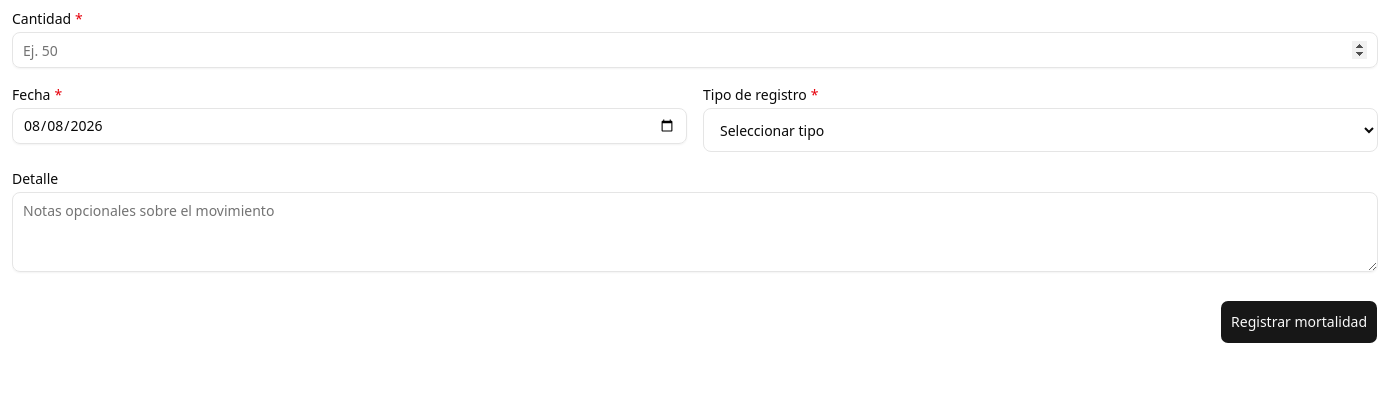
Test case: MovimientoCantidadForm › muestra error si cantidad es 0 o negativa al enviar
This screenshot has width=1390, height=404.
Type "0" into the number field labelled "Cantidad *" at {"x": 695, "y": 50}, box [12, 32, 1378, 68]
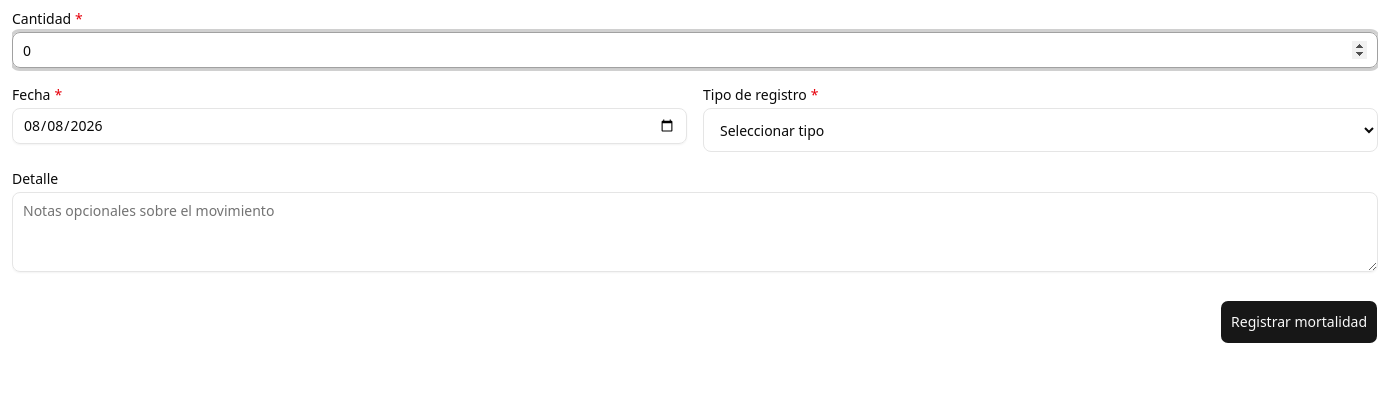
Click the button "Registrar mortalidad" at {"x": 1299, "y": 322}, box [1220, 300, 1378, 344]
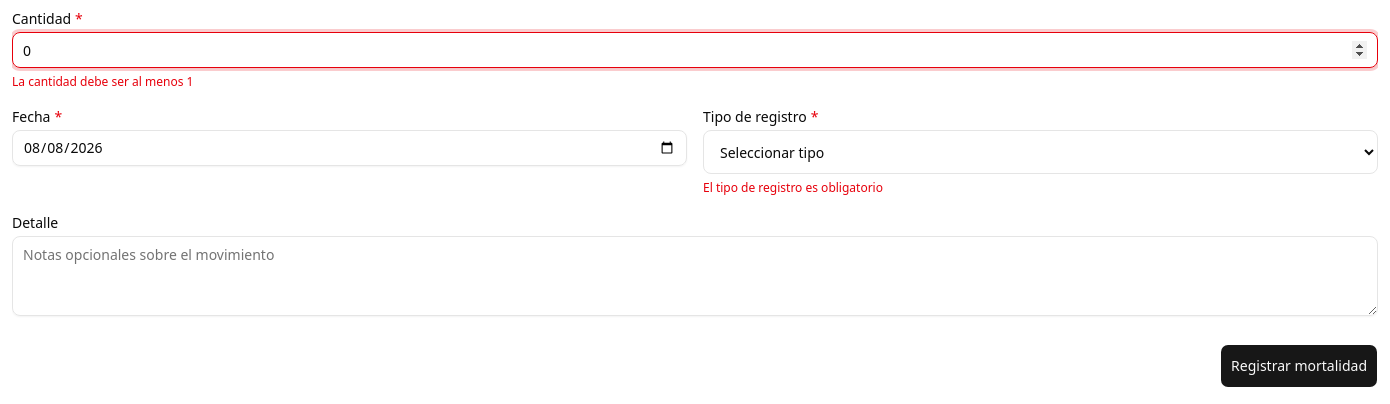
Result: the text "La cantidad debe ser al menos 1" is shown at [12, 73, 194, 90]
